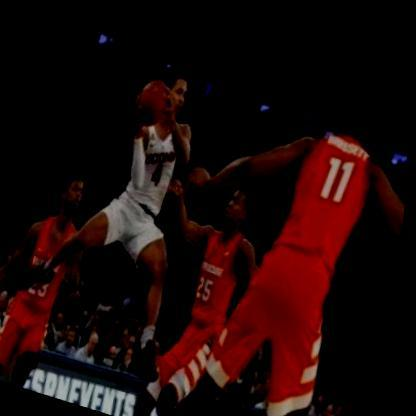basketball: (128, 69, 177, 132)
